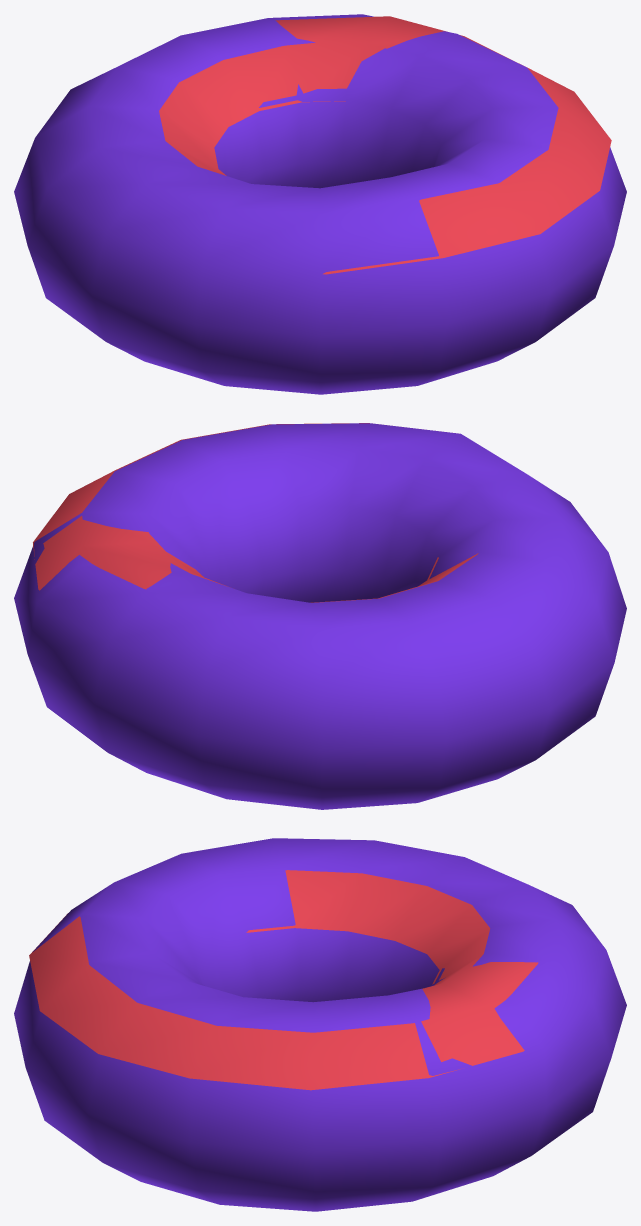
Rendered from donut2.glb.
The picture shows the model from 3 angles, top to bottom: view 1: azimuth 30°, elevation 25°; view 2: azimuth 150°, elevation 25°; view 3: azimuth 270°, elevation 25°; orthographic projection. The views are drawn at different scales.
Parts seen in each view (by area): view 1: Torus, Torus.001; view 2: Torus, Torus.001; view 3: Torus, Torus.001.
Boxes of the visible parts, x1,y1,x2,y2 form: Torus: [14, 14, 626, 394]; Torus.001: [159, 16, 611, 274]; Torus: [14, 423, 626, 809]; Torus.001: [33, 423, 478, 602]; Torus: [14, 838, 626, 1211]; Torus.001: [29, 870, 538, 1090].
Size of what is drawn, in the model's own units: 0.293 by 0.1016 by 0.2932.
